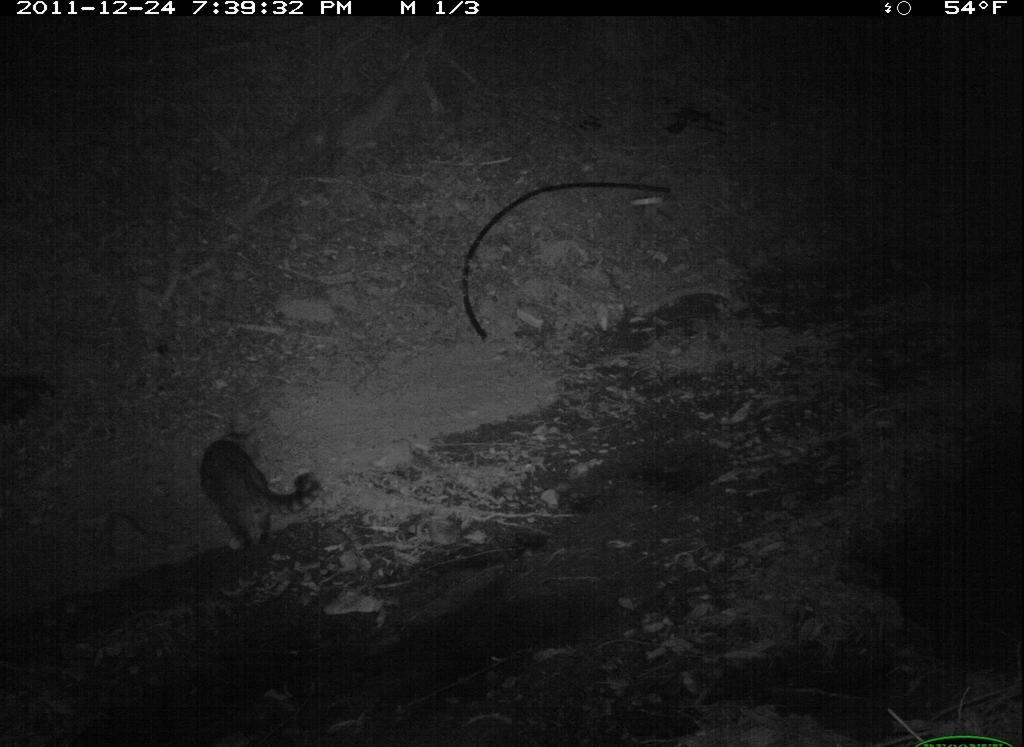cat: (195, 427, 328, 561)
